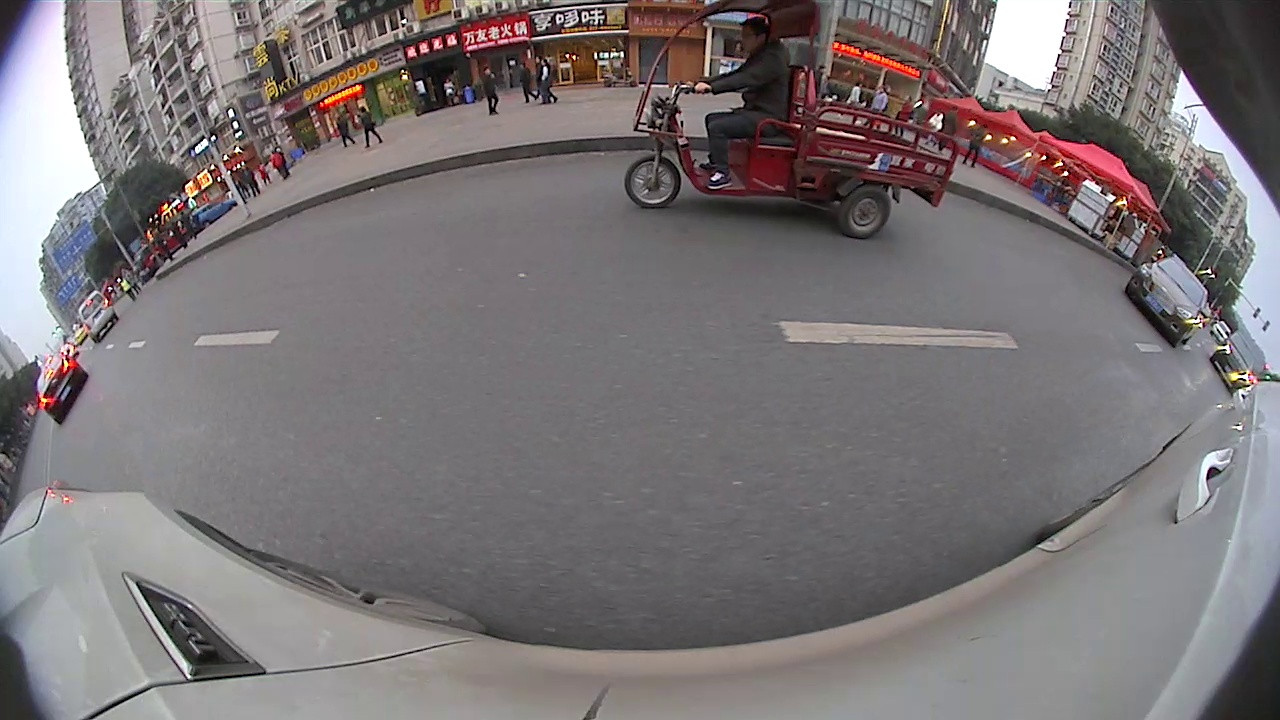car: (625, 1, 962, 242), (1122, 256, 1211, 348), (31, 348, 93, 426), (1209, 327, 1260, 393), (74, 289, 120, 345)
front: (622, 153, 685, 213)
rear: (832, 180, 893, 244)
